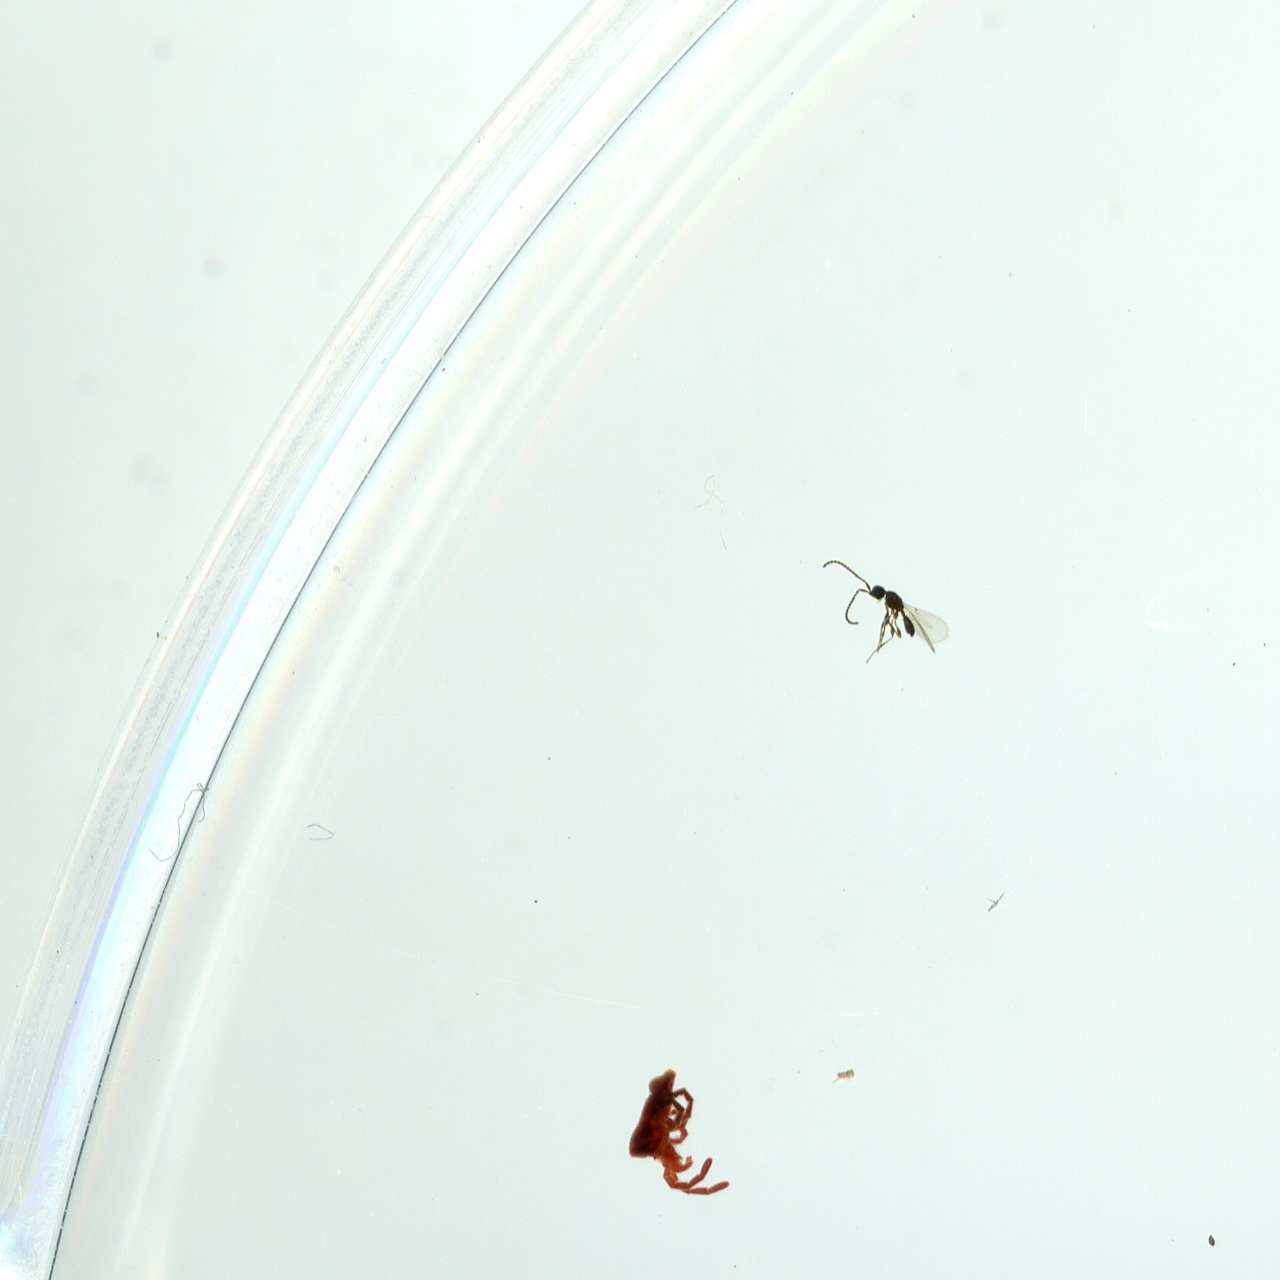arthropod: (805, 549, 959, 673), (622, 1054, 738, 1211)
